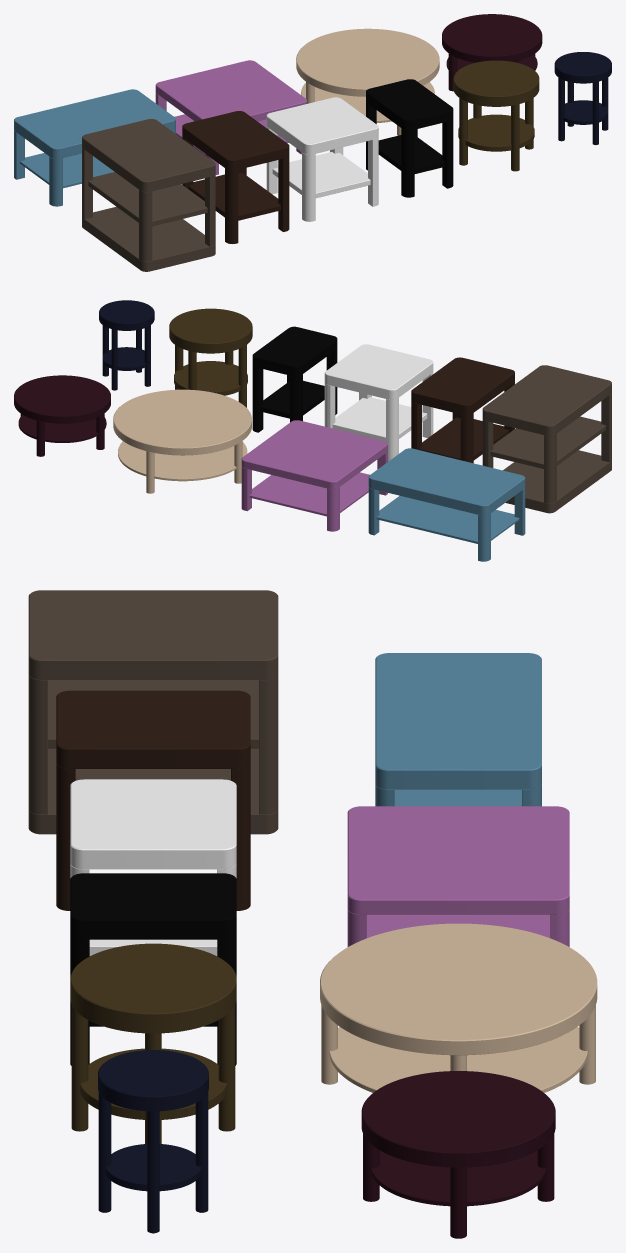
Rendered from Sleek_collection_of_tables.FBX.
3 renders of one model, top to bottom at view 1: azimuth 30°, elevation 25°; view 2: azimuth 150°, elevation 25°; view 3: azimuth 270°, elevation 25°, orthographic. The views are drawn at different scales.
Parts seen in each view (by area): view 1: NGon001, Tabletop_004, Tabletop_006, Tabletop_005, Tabletop_007, Tabletop_002, Tabletop_01, NGon007, NGon003, Shelf_004, Tabletop_003, Legs_004 (+16 smaller); view 2: NGon001, Tabletop_005, Tabletop_006, Tabletop_004, Tabletop_002, Tabletop_01, NGon007, Shelf_005, NGon003, Tabletop_007, NGon002, Shelf_004 (+19 smaller); view 3: NGon001, Tabletop_006, Tabletop_005, Tabletop_004, NGon007, Tabletop_01, Tabletop_002, NGon003, Tabletop_003, NGon002, NGon005, NGon008 (+21 smaller).
Boxes of the visible parts, x1,y1,x2,y2 form: NGon001: [296, 28, 439, 96]; Tabletop_004: [82, 119, 215, 191]; Tabletop_006: [155, 60, 306, 121]; Tabletop_005: [14, 89, 175, 158]; Tabletop_007: [82, 206, 215, 271]; Tabletop_002: [266, 97, 378, 154]; Tabletop_01: [182, 111, 289, 170]; NGon007: [442, 14, 542, 62]; NGon003: [453, 60, 539, 106]; Shelf_004: [88, 172, 207, 226]; Tabletop_003: [366, 79, 453, 130]; Legs_004: [82, 148, 215, 261]; NGon001: [113, 389, 251, 455]; Tabletop_005: [368, 448, 525, 515]; Tabletop_006: [241, 420, 387, 489]; Tabletop_004: [482, 365, 611, 435]; Tabletop_002: [324, 344, 433, 399]; Tabletop_01: [411, 357, 514, 415]; NGon007: [14, 375, 110, 423]; Shelf_005: [376, 496, 519, 543]; NGon003: [169, 308, 252, 353]; Tabletop_007: [503, 450, 611, 513]; NGon002: [118, 441, 247, 481]; Shelf_004: [490, 416, 605, 468]; NGon001: [320, 923, 597, 1055]; Tabletop_006: [347, 806, 569, 914]; Tabletop_005: [375, 653, 541, 789]; Tabletop_004: [28, 590, 278, 679]; NGon007: [361, 1071, 555, 1167]; Tabletop_01: [56, 690, 250, 768]; Tabletop_002: [70, 779, 236, 869]; NGon003: [70, 943, 236, 1033]; Tabletop_003: [70, 873, 236, 939]; NGon002: [329, 1026, 587, 1092]; NGon005: [98, 1050, 208, 1111]; NGon008: [371, 1150, 546, 1206].
Size of the model in its own units: 405 by 70 by 205.
